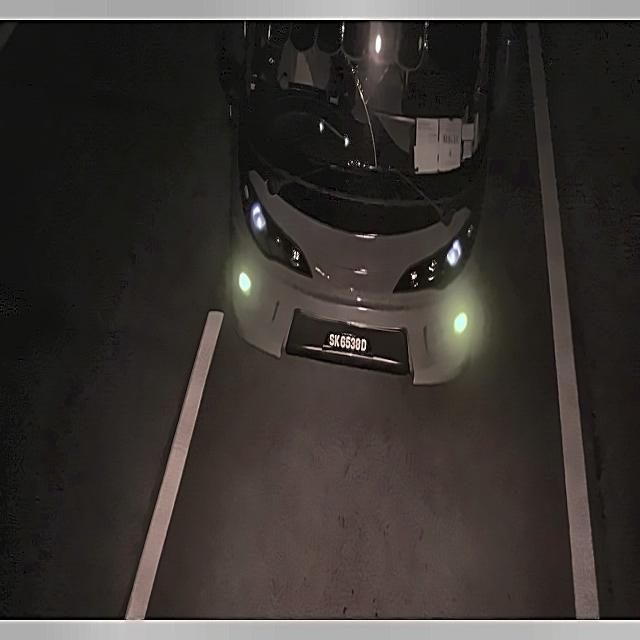car: (322, 327, 376, 361)
